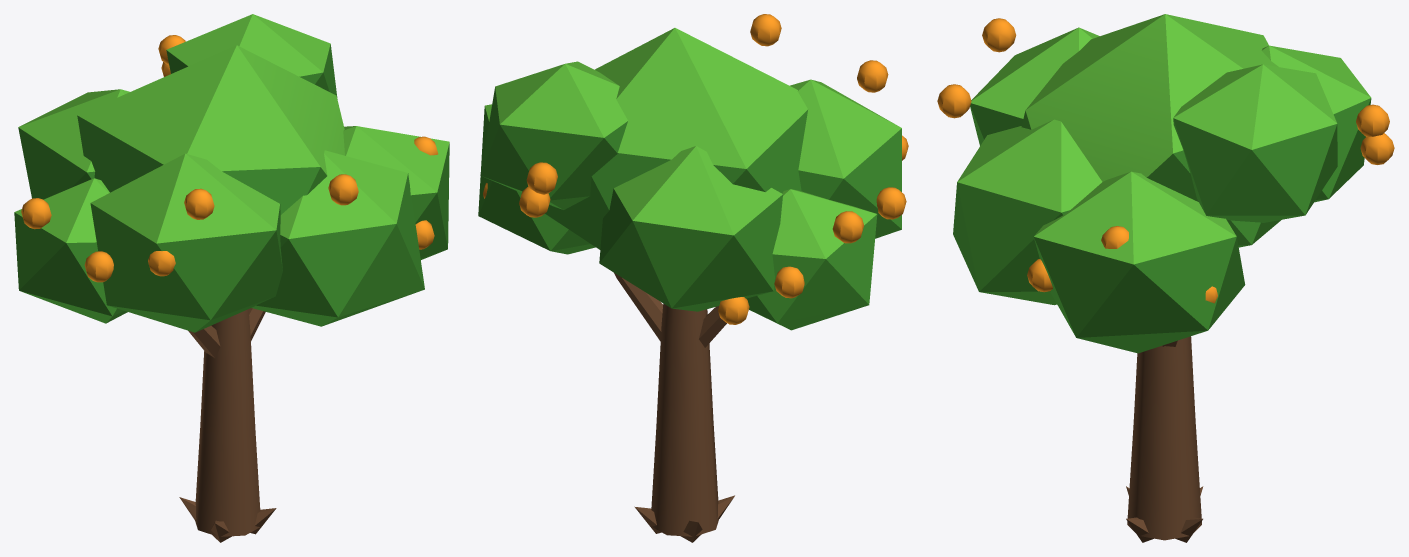
Rendered from OrangeTree.fbx.
3 views of the same model, side by side, from view 1: azimuth 30°, elevation 25°; view 2: azimuth 150°, elevation 25°; view 3: azimuth 270°, elevation 25° (orthographic). The views are drawn at different scales.
Parts seen in each view (by area): view 1: OrangeTree; view 2: OrangeTree; view 3: OrangeTree.
Part boxes in pixels (x1=…): OrangeTree: x1=14, y1=14, x2=449, y2=542; OrangeTree: x1=478, y1=14, x2=908, y2=542; OrangeTree: x1=937, y1=14, x2=1394, y2=542.
Bounding box in the file's own units: 12.33 × 14.21 × 11.23.
1 material, 1 textured.
